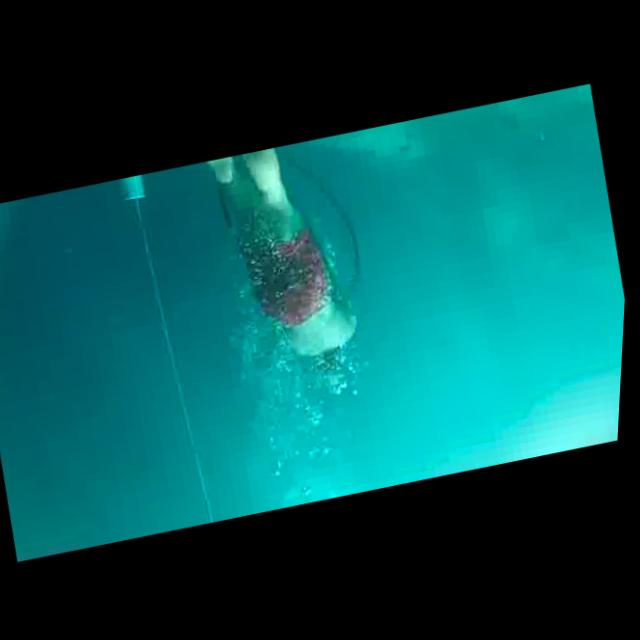human: (198, 134, 383, 399)
